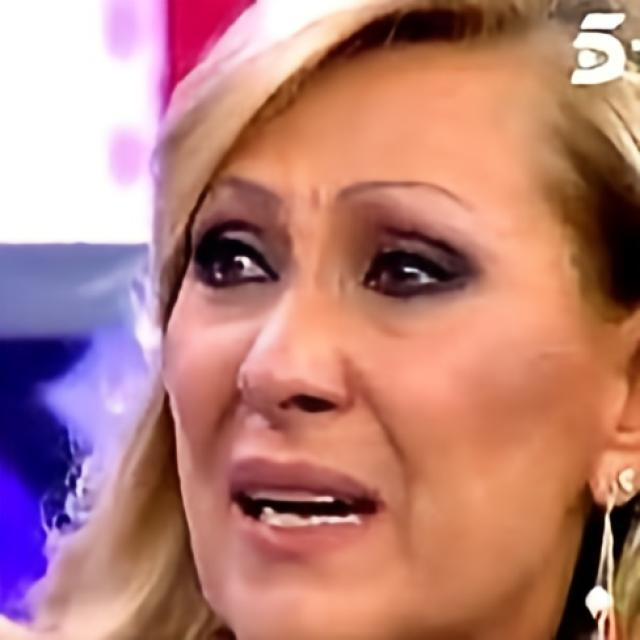sad: (166, 38, 590, 640)
